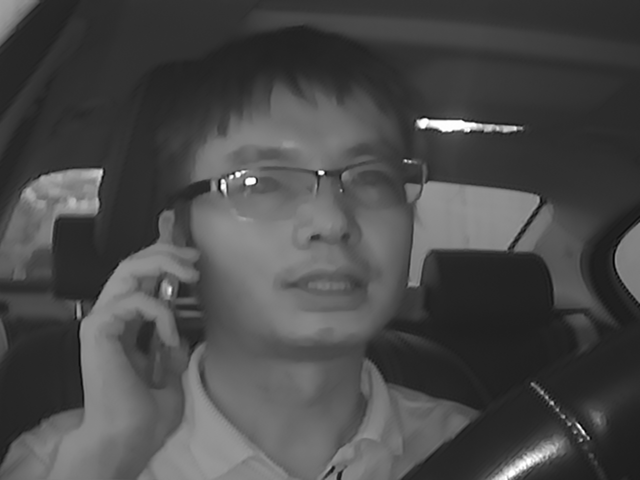hand: (74, 235, 204, 431)
